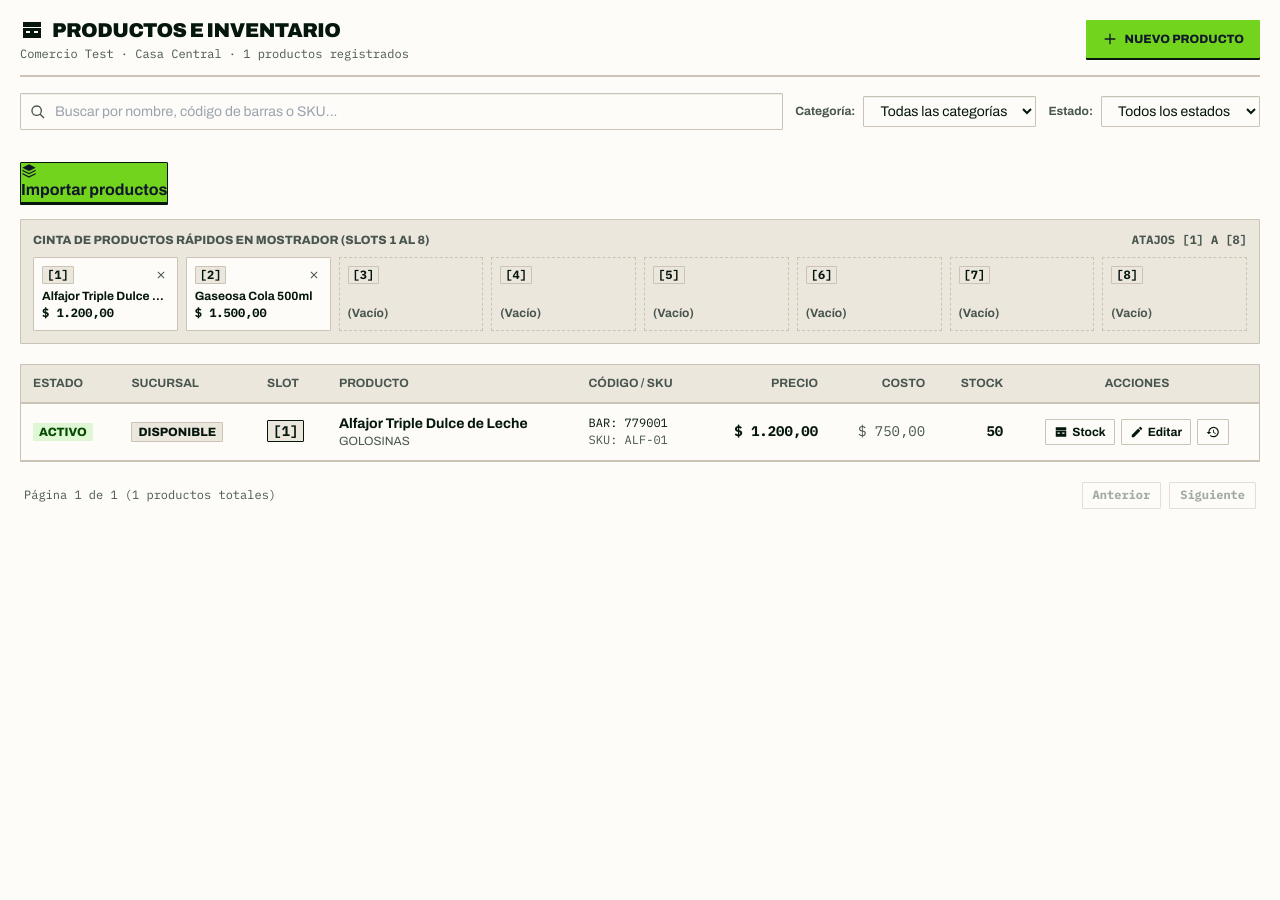
Test: ProductsScreen ("Mostrador vivo" Visual Catalog) › handles 409 concurrency conflict during stock adjustment and displays operational error message
This screenshot has width=1280, height=900.
Click the button titled "Ajustar stock" at (1080, 432), box x1=1045 y1=419 x2=1115 y2=445
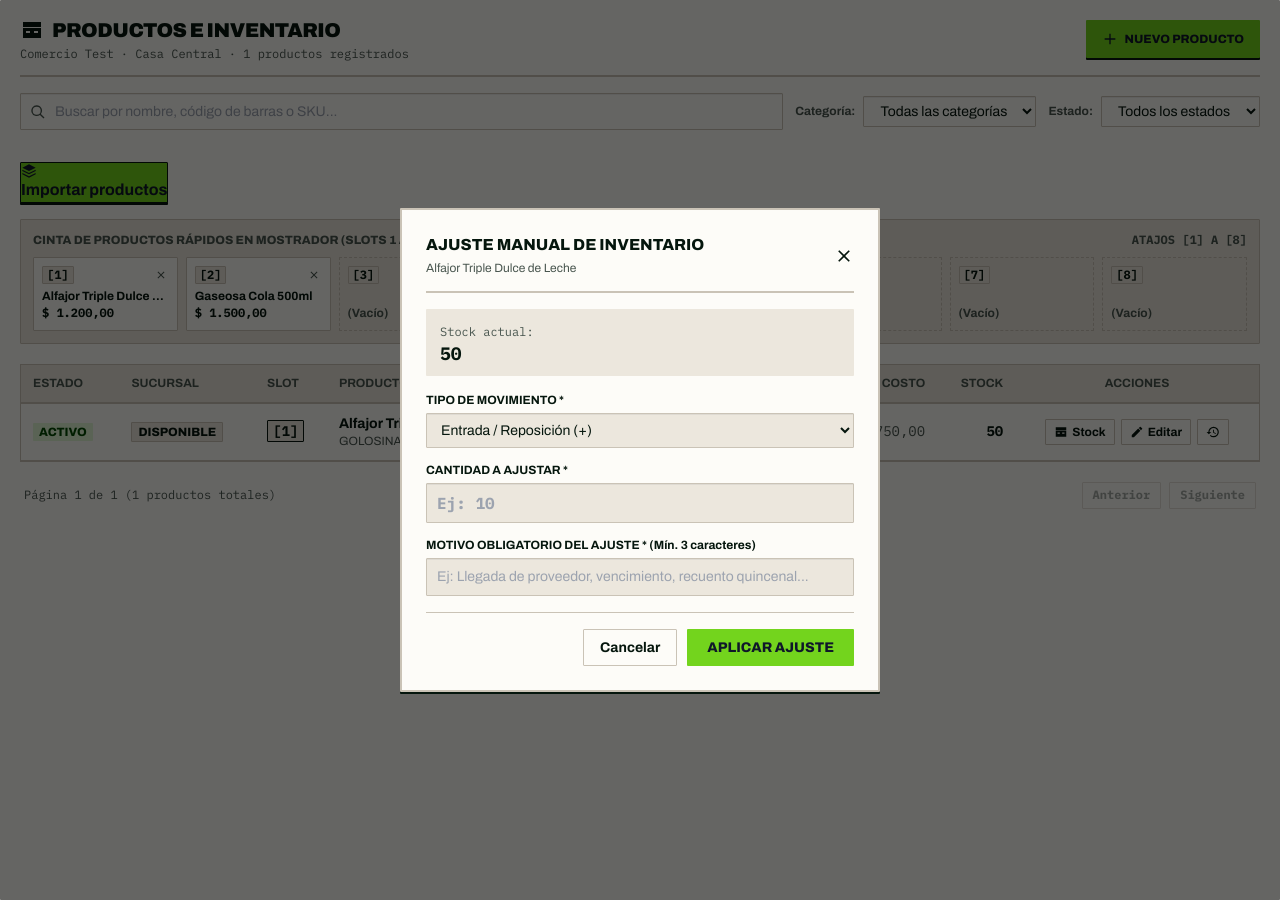
Type "5" into the number field with placeholder "Ej: 10" at (640, 503), box x1=426 y1=483 x2=854 y2=523
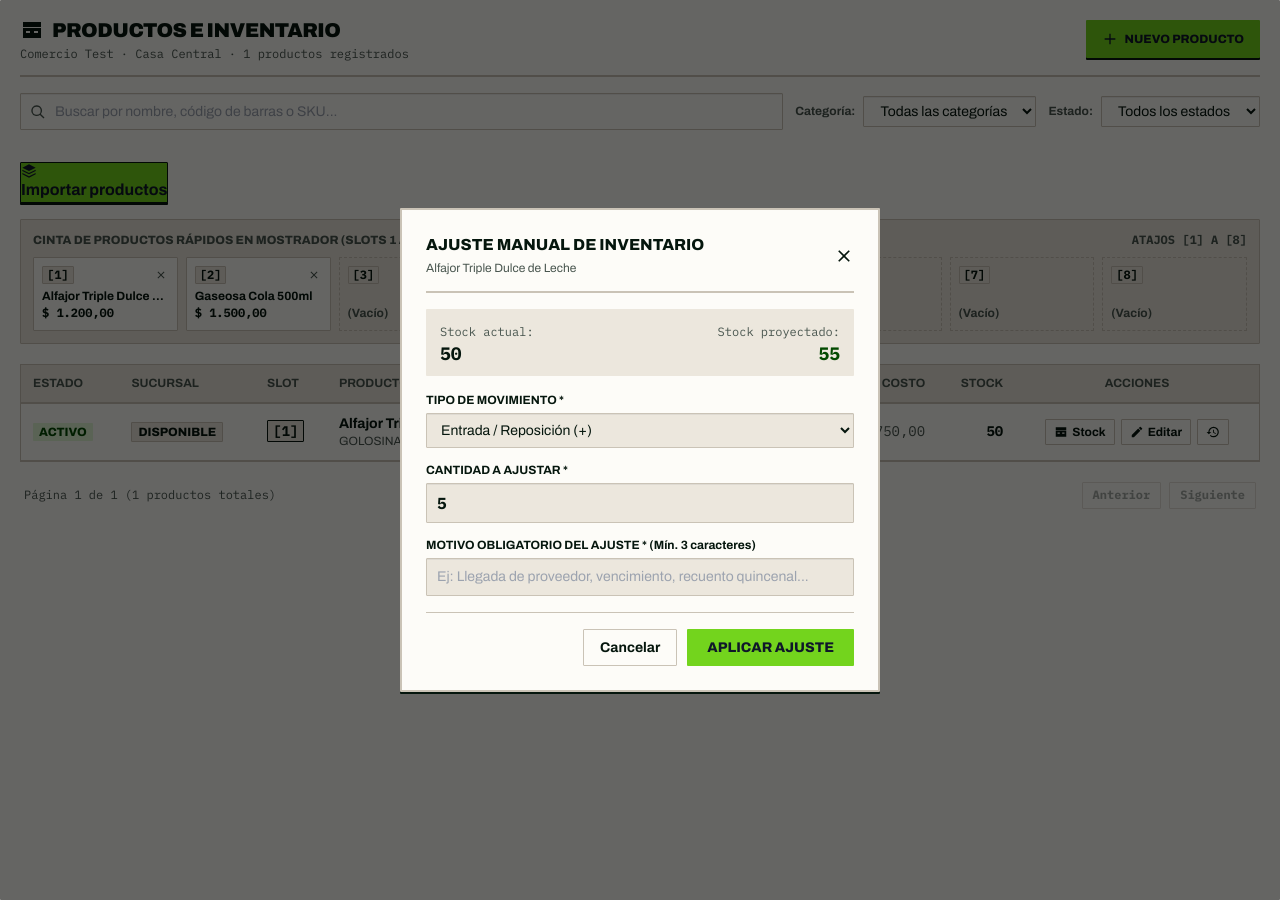
Type "Recuento concurrente" into the field with placeholder "Llegada de proveedor" at (640, 577), box x1=426 y1=558 x2=854 y2=596
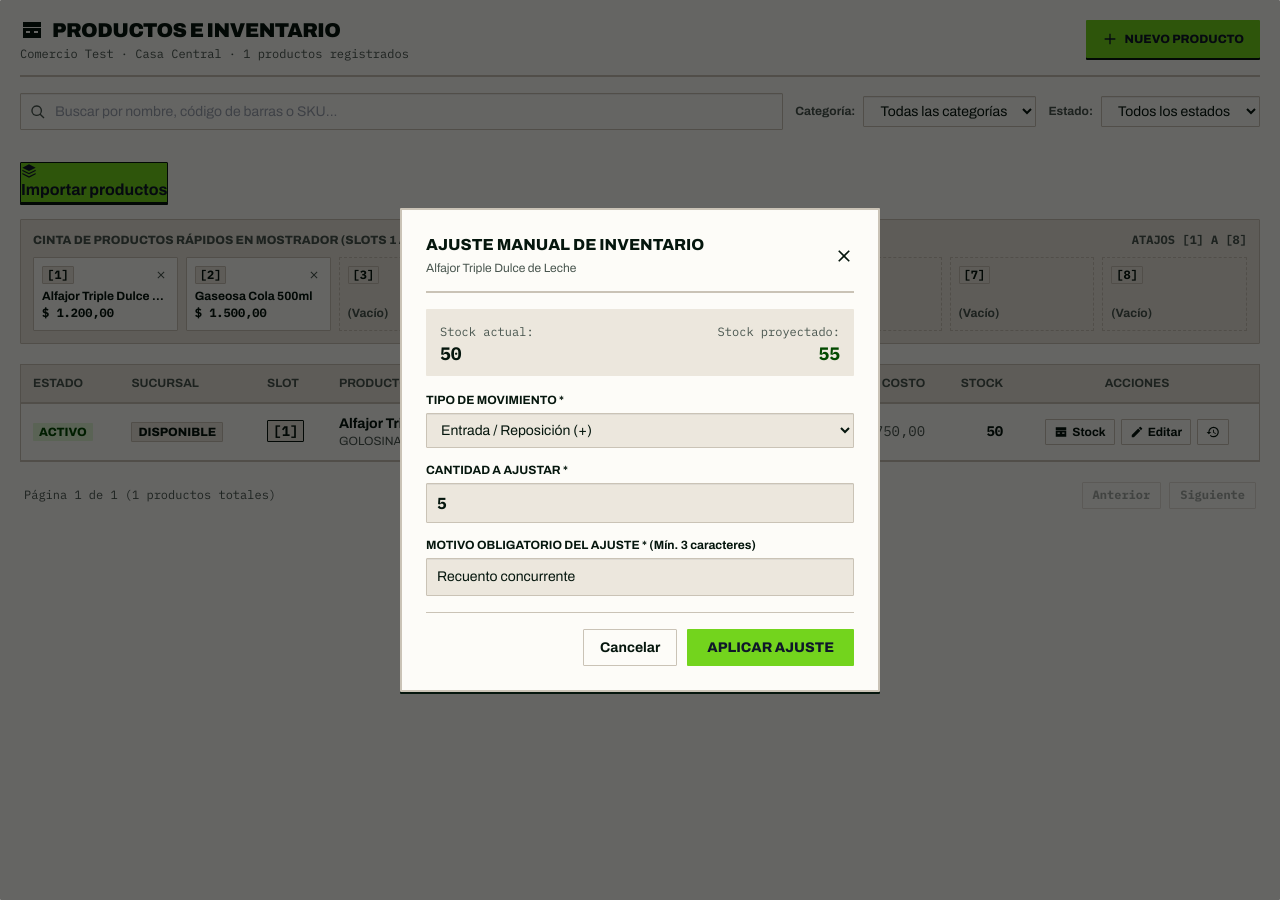
Click the button "APLICAR AJUSTE" at (771, 647), box x1=687 y1=629 x2=854 y2=666
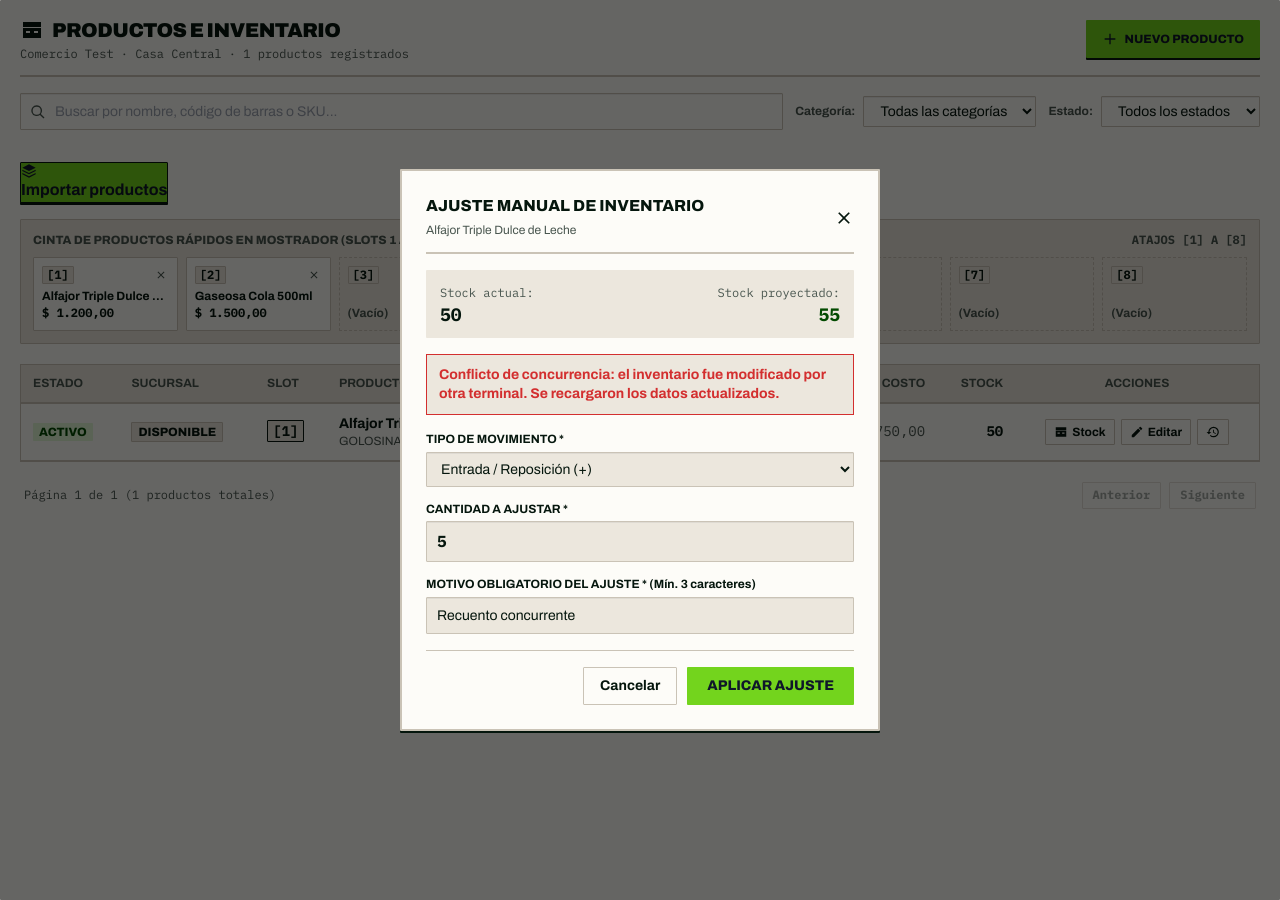
Expected: the text "Conflicto de concurrencia: el inventario fue modificado por otra terminal" is shown, x1=439 y1=367 x2=826 y2=401
